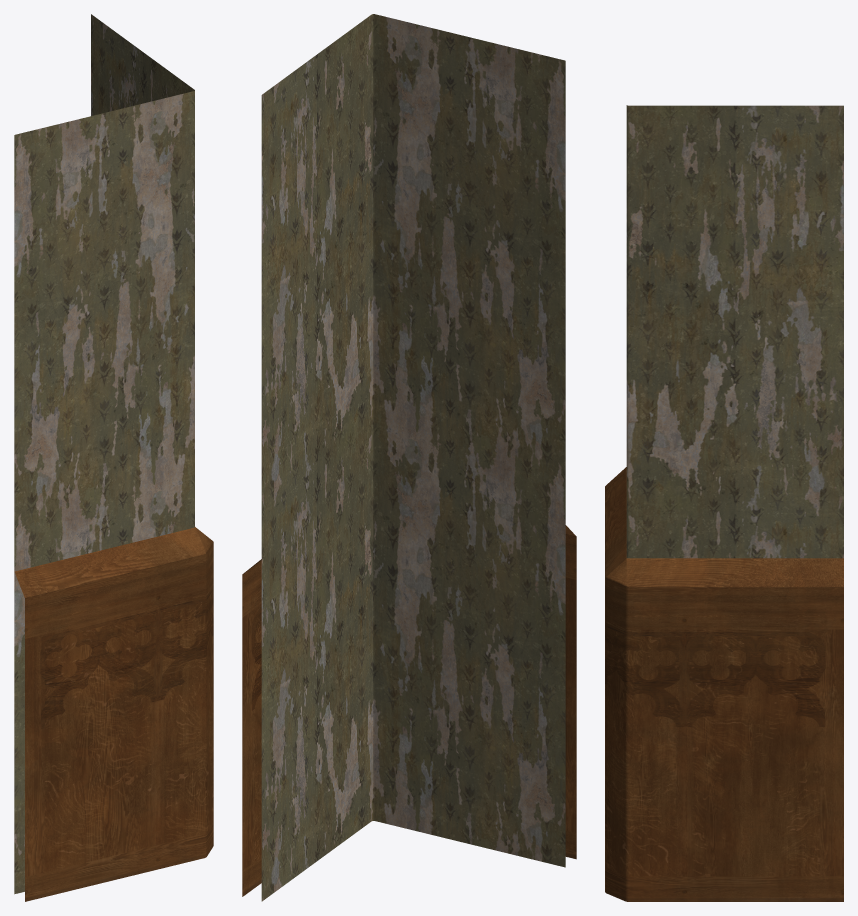
Rendered from SM_Wall_Paper_03.fbx.
3 renders of one model, left to right at view 1: azimuth 30°, elevation 25°; view 2: azimuth 150°, elevation 25°; view 3: azimuth 270°, elevation 25°, orthographic. The views are drawn at different scales.
Visible parts, largest first — view 1: SM_Wall_Paper_03; view 2: SM_Wall_Paper_03; view 3: SM_Wall_Paper_03.
Boxes of the visible parts, bbox=[...] form: SM_Wall_Paper_03: bbox=[14, 14, 213, 901]; SM_Wall_Paper_03: bbox=[242, 14, 576, 901]; SM_Wall_Paper_03: bbox=[605, 105, 843, 901].
Bounding box in the file's own units: 110 × 400 × 110.
2 materials, 2 textured.
